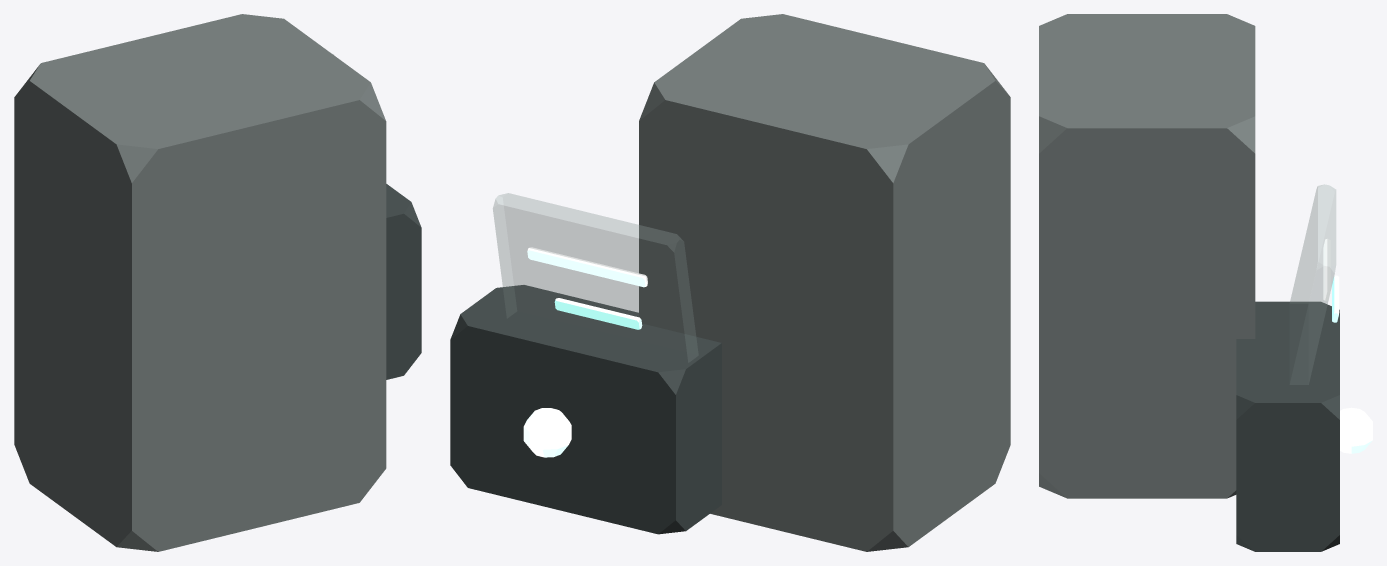
Rendered from tool-glyph.glb.
The picture shows the model from 3 angles, left to right: view 1: azimuth 30°, elevation 25°; view 2: azimuth 150°, elevation 25°; view 3: azimuth 270°, elevation 25°; orthographic projection. The views are drawn at different scales.
Visible parts, largest first — view 1: Tool_System, Tool_Console; view 2: Tool_System, Tool_Console, Tool_Screen, Tool_Status, Tool_Line_A, Tool_Line_B; view 3: Tool_System, Tool_Console, Tool_Screen, Tool_Status, Tool_Line_A.
Boxes of the visible parts, box(x1,y1,x2,y2) form: Tool_System: box(14, 14, 386, 551); Tool_Console: box(386, 184, 421, 379); Tool_System: box(639, 14, 1010, 551); Tool_Console: box(450, 285, 721, 534); Tool_Screen: box(493, 193, 698, 362); Tool_Status: box(523, 408, 571, 457); Tool_Line_A: box(527, 247, 647, 287); Tool_Line_B: box(554, 298, 642, 329); Tool_System: box(1039, 14, 1255, 498); Tool_Console: box(1236, 301, 1339, 551); Tool_Screen: box(1290, 184, 1335, 384); Tool_Status: box(1340, 407, 1372, 453); Tool_Line_A: box(1323, 238, 1330, 300).
Size of the model in its own units: 1.8 by 1.74 by 1.42.
